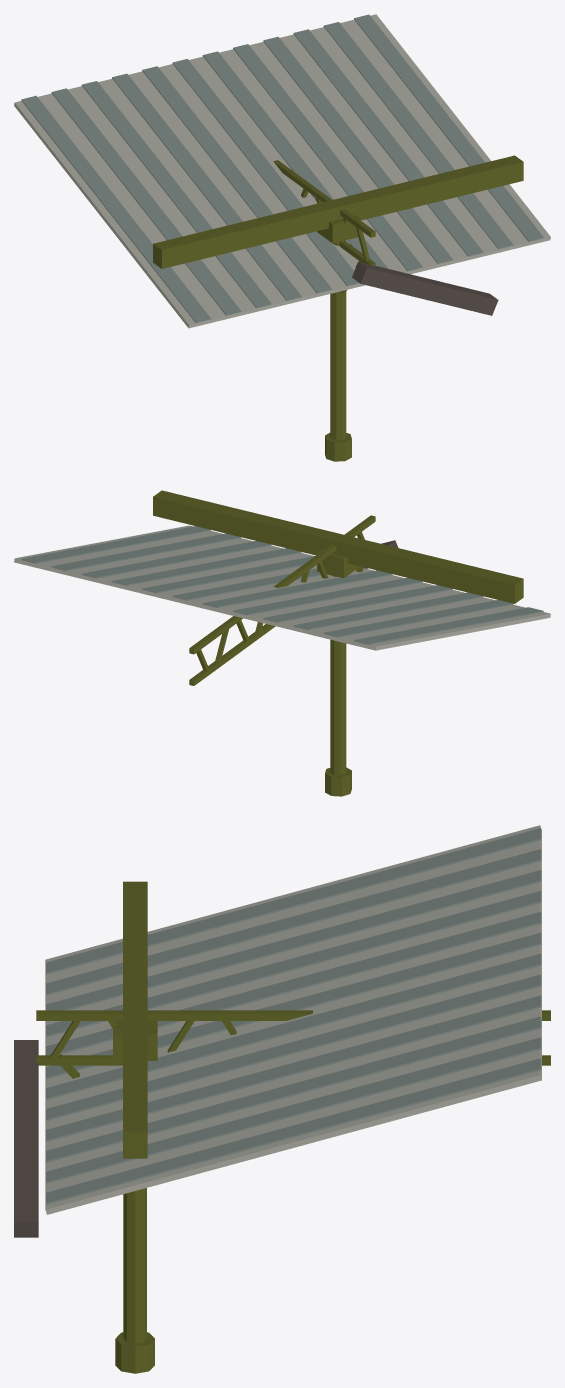
Rendered from SM_KitMarquesina_v4_LOD0.fbx.
3 views of the same model, one above another, from view 1: azimuth 30°, elevation 25°; view 2: azimuth 150°, elevation 25°; view 3: azimuth 270°, elevation 25° (orthographic). The views are drawn at different scales.
Visible parts, largest first — view 1: SM_bloques.kit_marquesina_v4_LOD0; view 2: SM_bloques.kit_marquesina_v4_LOD0; view 3: SM_bloques.kit_marquesina_v4_LOD0.
Part boxes in pixels (x1,y1,x2,y2): SM_bloques.kit_marquesina_v4_LOD0: [14, 14, 550, 461]; SM_bloques.kit_marquesina_v4_LOD0: [14, 490, 550, 796]; SM_bloques.kit_marquesina_v4_LOD0: [14, 825, 550, 1373].
Bounding box in the file's own units: 5.98 × 4.65 × 5.43.
